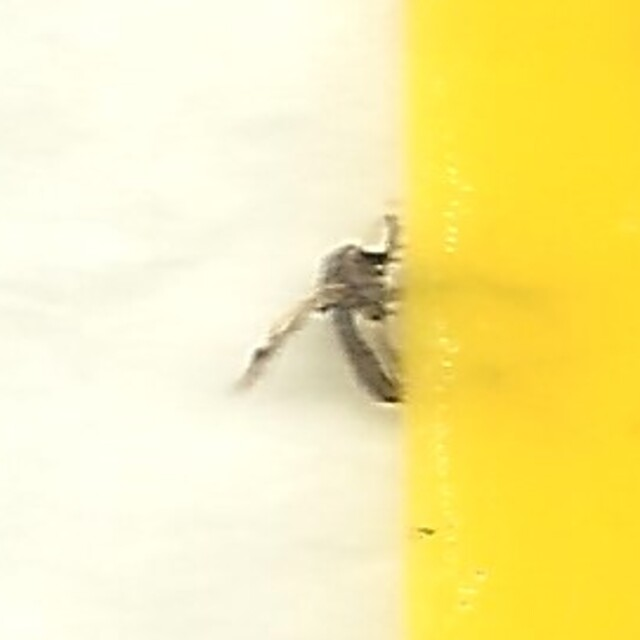Nematocera: (236, 212, 404, 428)
